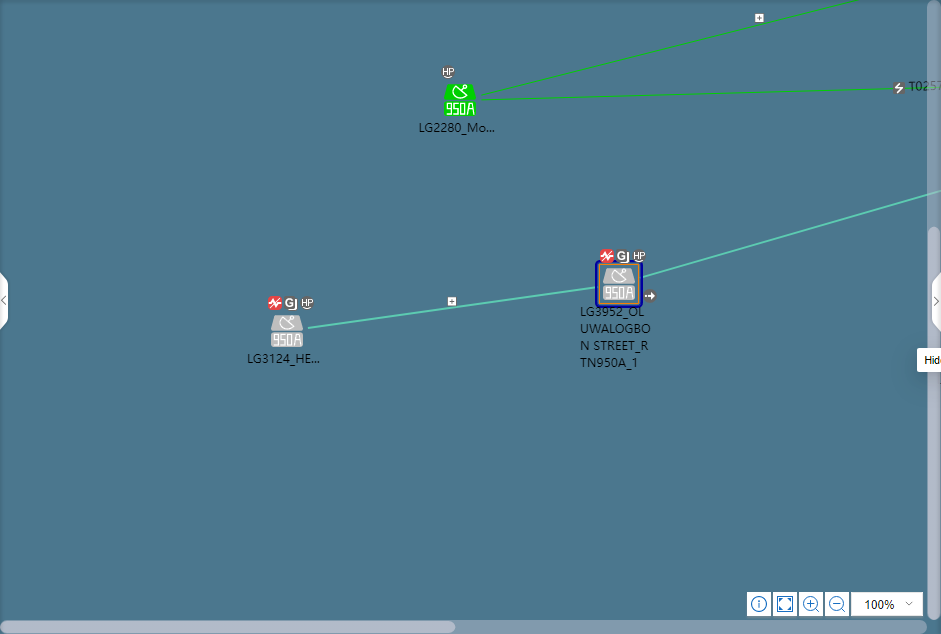Link_Blue: (644, 189, 941, 278), (307, 286, 595, 329)
Link_Green: (480, 0, 860, 96), (481, 84, 940, 101)
RTN_Gray: (600, 266, 637, 303), (271, 316, 302, 347)
RTN_Green: (444, 84, 475, 115)
